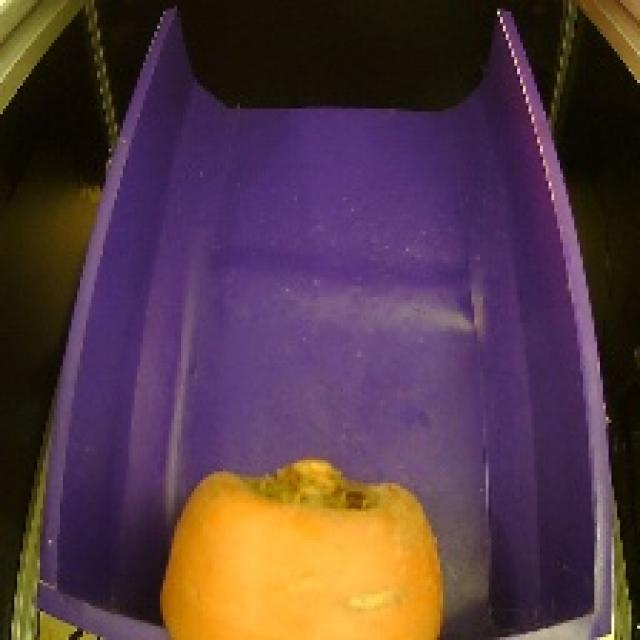carrots: (149, 434, 450, 640)
